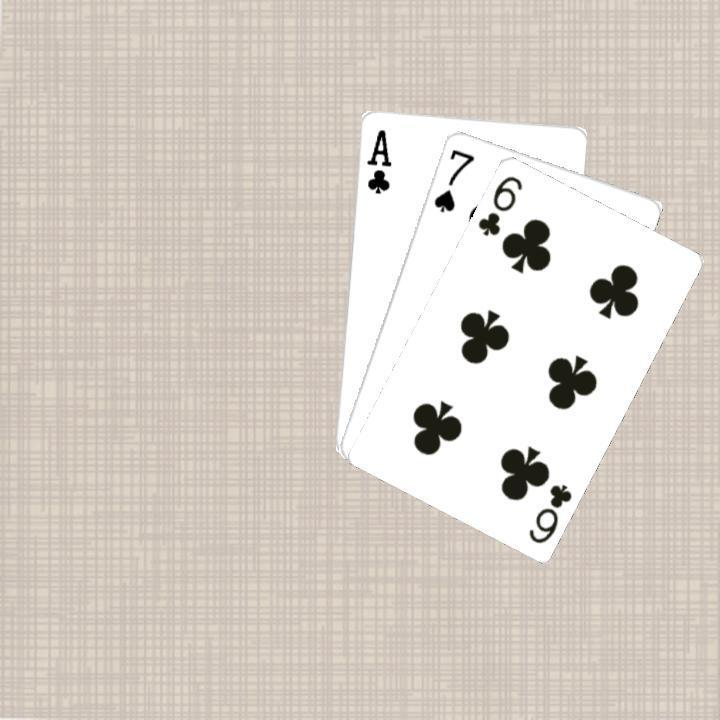6: (473, 171, 525, 237), (524, 479, 574, 545)
7: (429, 144, 476, 214)
A: (362, 125, 393, 195)
